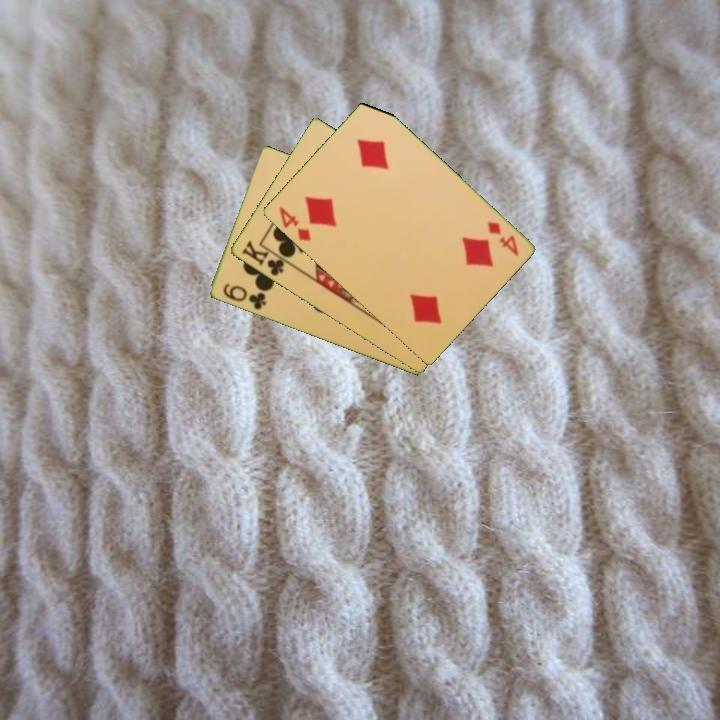4d: (275, 203, 313, 245), (483, 218, 521, 259)
6c: (219, 280, 269, 313)
Kc: (238, 237, 293, 279)
